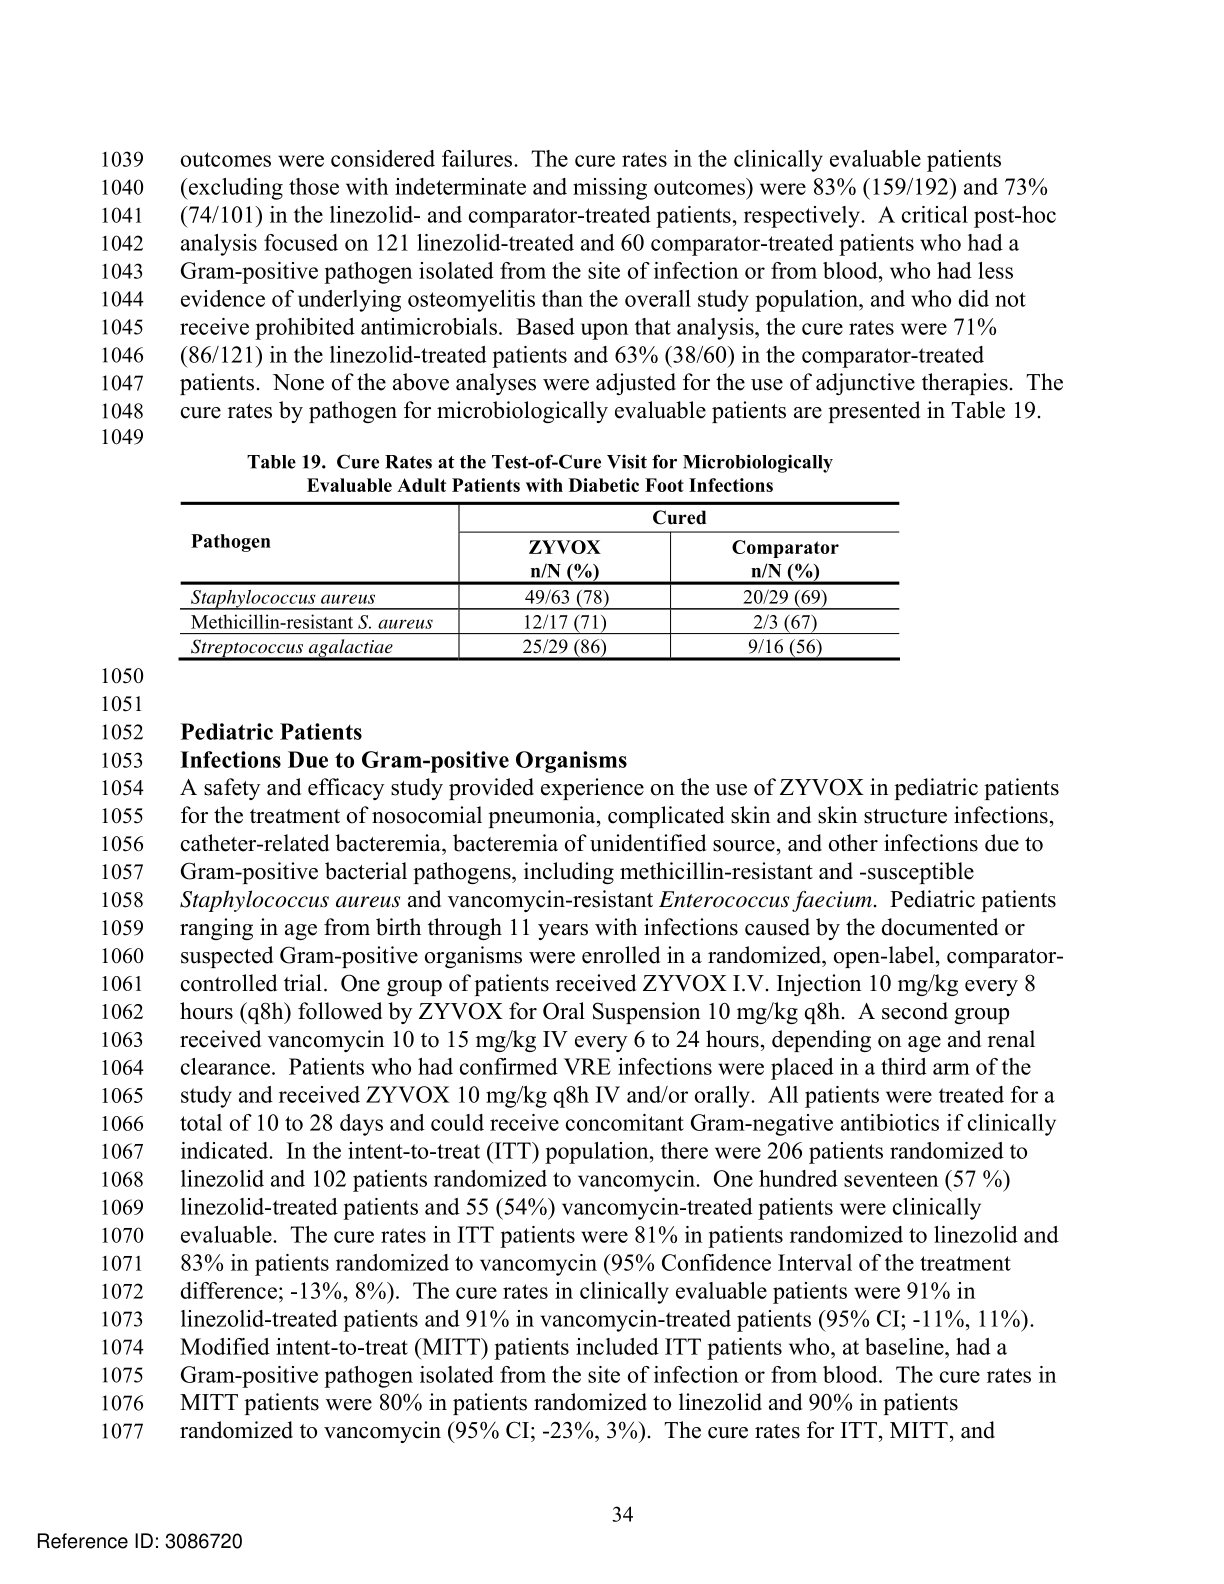partial_lined_merged_cells: (177, 501, 900, 661)
